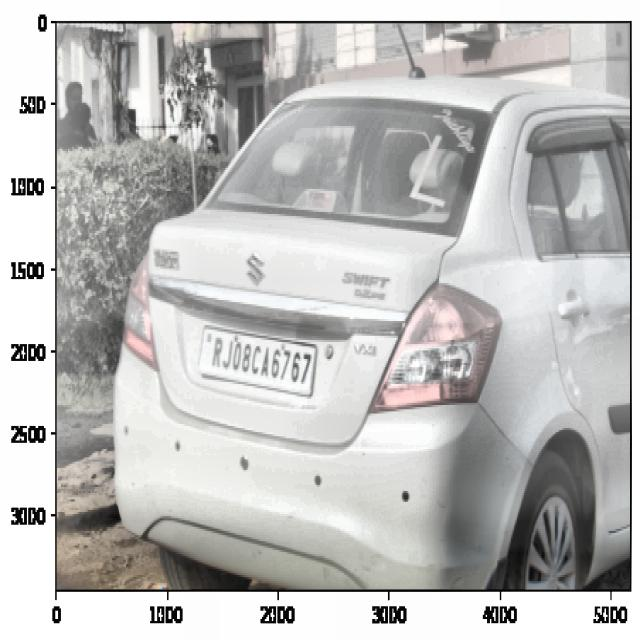license_plate: (206, 333, 313, 388)
